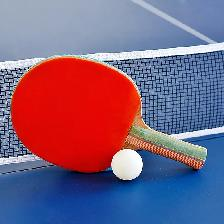WhiteBall: (111, 148, 142, 180)
